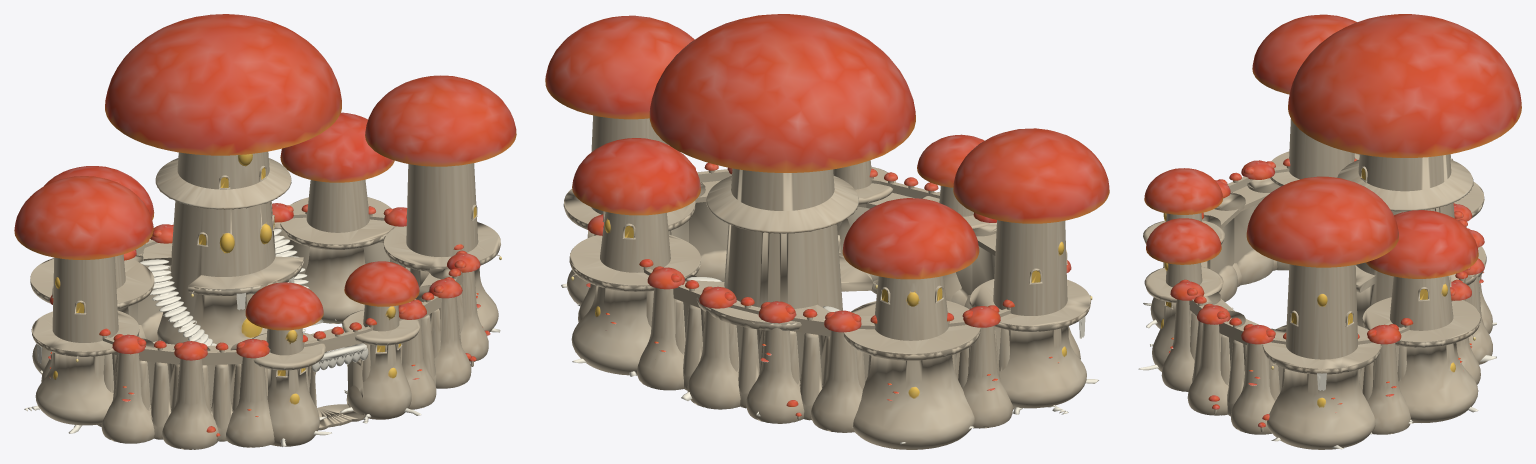
Rendered from castle0.glb.
The picture shows the model from 3 angles, left to right: view 1: azimuth 30°, elevation 25°; view 2: azimuth 150°, elevation 25°; view 3: azimuth 270°, elevation 25°; orthographic projection. The views are drawn at different scales.
Parts seen in each view (by area): view 1: castle_keep, castle_tower_large.1, castle_tower_large.0, castle_tower_small.0, castle_gate_turret.1, castle_gate_turret.0, castle_tower_small.1, castle_wall_joint.10, castle_wall_joint.9, castle_wall_joint.11, castle_wall_gate, castle_wall_joint.1 (+10 smaller); view 2: castle_keep, castle_tower_large.1, castle_tower_small.1, castle_tower_small.0, castle_tower_large.0, castle_wall_joint.6, castle_wall_joint.7, castle_wall_joint.5, castle_wall_joint.4, castle_wall_joint.8, castle_gate_turret.1, castle_wall_bay.9 (+10 smaller); view 3: castle_keep, castle_tower_large.0, castle_tower_small.0, castle_tower_large.1, castle_gate_turret.0, castle_gate_turret.1, castle_wall_joint.2, castle_wall_joint.3, castle_wall_joint.1, castle_wall_joint.0, castle_wall_bay.14, castle_wall_bay.2 (+11 smaller).
Part boxes in pixels (left/top/right/bottom): castle_keep: left=105, top=14, right=341, bottom=344; castle_tower_large.1: left=14, top=176, right=153, bottom=425; castle_tower_large.0: left=365, top=75, right=516, bottom=331; castle_tower_small.0: left=280, top=112, right=394, bottom=323; castle_gate_turret.1: left=245, top=282, right=325, bottom=446; castle_gate_turret.0: left=342, top=261, right=420, bottom=419; castle_tower_small.1: left=30, top=166, right=154, bottom=374; castle_wall_joint.10: left=162, top=341, right=219, bottom=449; castle_wall_joint.9: left=101, top=334, right=154, bottom=443; castle_wall_joint.11: left=226, top=339, right=274, bottom=447; castle_wall_gate: left=308, top=326, right=368, bottom=430; castle_wall_joint.1: left=415, top=279, right=471, bottom=388; castle_keep: left=649, top=14, right=915, bottom=330; castle_tower_large.1: left=953, top=128, right=1109, bottom=408; castle_tower_small.1: left=842, top=198, right=980, bottom=449; castle_tower_small.0: left=569, top=138, right=701, bottom=375; castle_tower_large.0: left=545, top=15, right=695, bottom=305; castle_wall_joint.6: left=746, top=301, right=804, bottom=423; castle_wall_joint.7: left=811, top=310, right=862, bottom=432; castle_wall_joint.5: left=687, top=286, right=740, bottom=409; castle_wall_joint.4: left=637, top=267, right=696, bottom=390; castle_wall_joint.8: left=962, top=306, right=1013, bottom=428; castle_gate_turret.1: left=917, top=134, right=989, bottom=301; castle_wall_bay.9: left=789, top=315, right=830, bottom=420; castle_keep: left=1288, top=14, right=1521, bottom=327; castle_tower_large.0: left=1246, top=176, right=1398, bottom=449; castle_tower_small.0: left=1362, top=210, right=1480, bottom=422; castle_tower_large.1: left=1252, top=14, right=1359, bottom=186; castle_gate_turret.0: left=1144, top=218, right=1223, bottom=371; castle_gate_turret.1: left=1143, top=168, right=1224, bottom=328; castle_wall_joint.2: left=1231, top=324, right=1275, bottom=434; castle_wall_joint.3: left=1367, top=324, right=1410, bottom=434; castle_wall_joint.1: left=1187, top=305, right=1245, bottom=415; castle_wall_joint.0: left=1161, top=281, right=1220, bottom=391; castle_wall_bay.14: left=1227, top=176, right=1273, bottom=285; castle_wall_bay.2: left=1219, top=319, right=1258, bottom=416.
Bounding box in the file's own units: 33.56 × 21.08 × 22.96.
